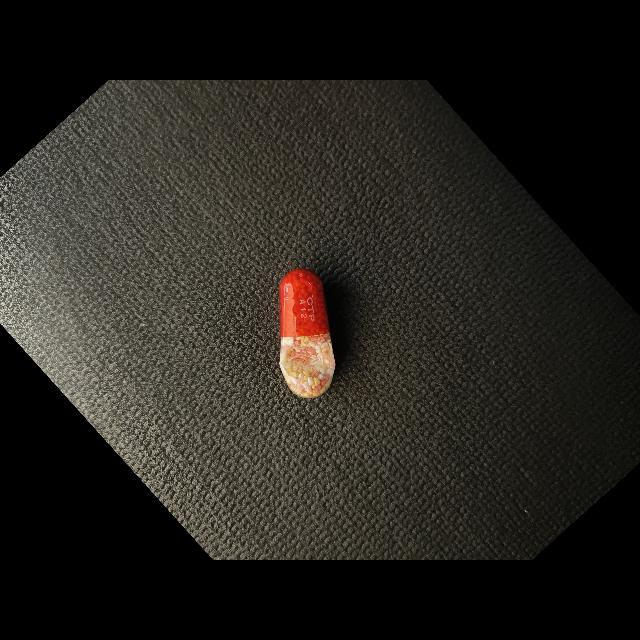Defective Capsule: (279, 269, 335, 398)
